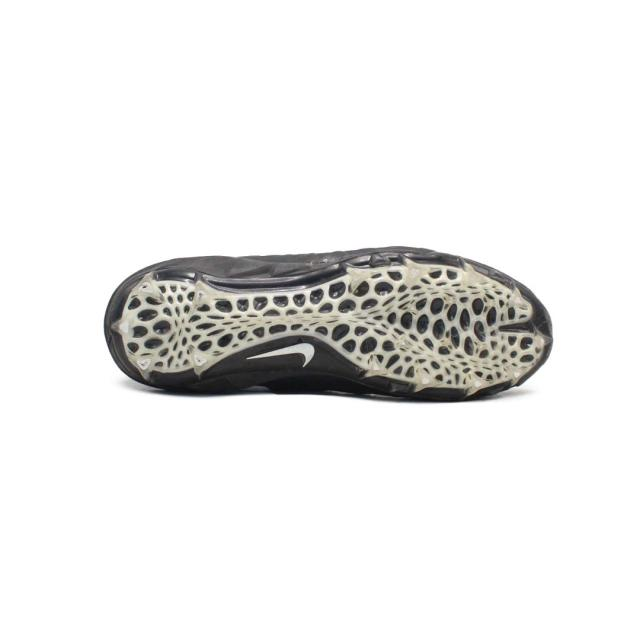outersole: (105, 257, 550, 393)
